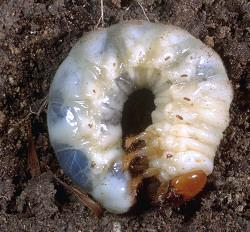grub: (44, 20, 233, 219)
